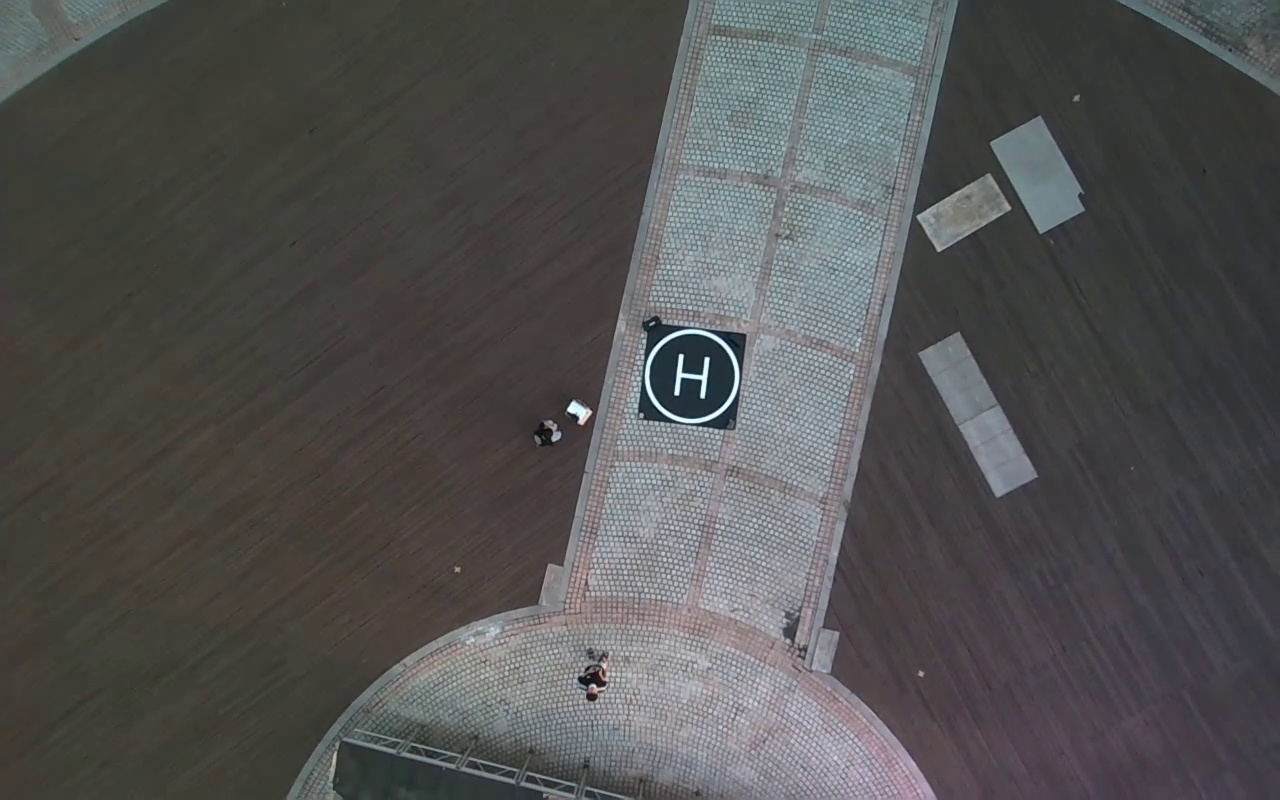H: (671, 354, 711, 397)
heliport: (643, 327, 741, 425)
